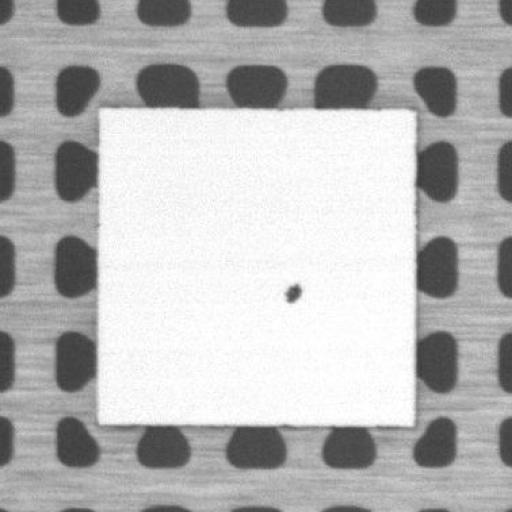DIE_INK: (283, 282, 302, 302)
